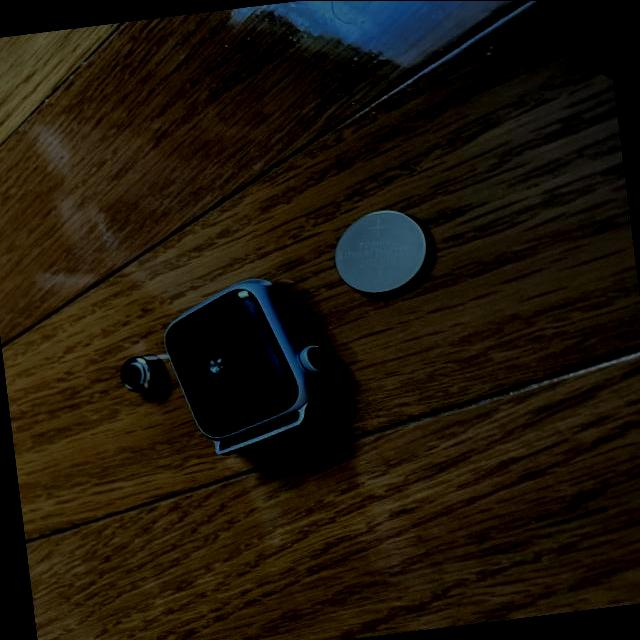COIN: (328, 205, 435, 298), (118, 352, 166, 394)
